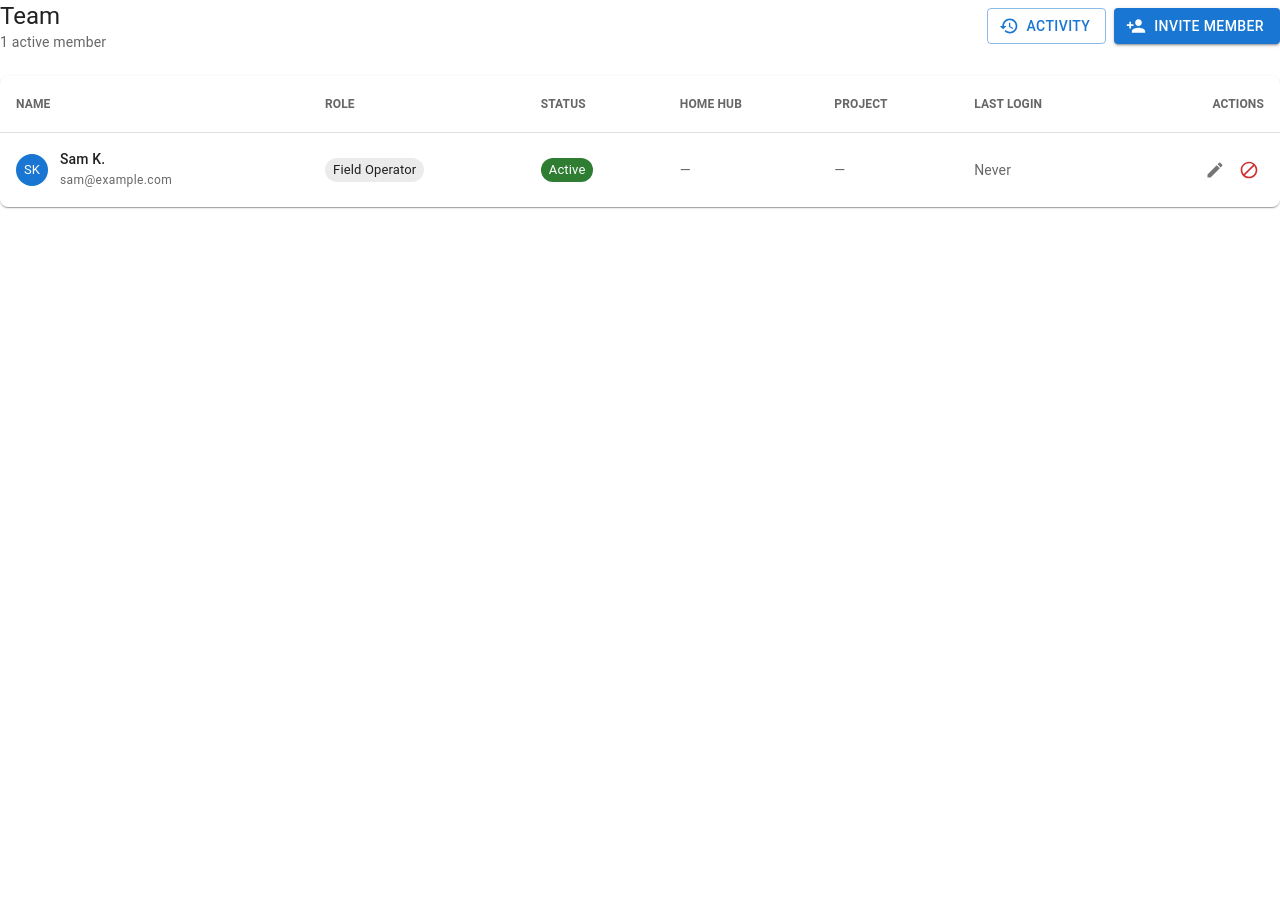
UXP-6 (6c): Invite team member on EntityFormDialog › the invite route's field errors land on their fields
Expected: the text "Sam K." is shown, [60, 151, 105, 167]
Click the button "Invite Member". click: x=1197, y=26
box: [1114, 8, 1279, 44]
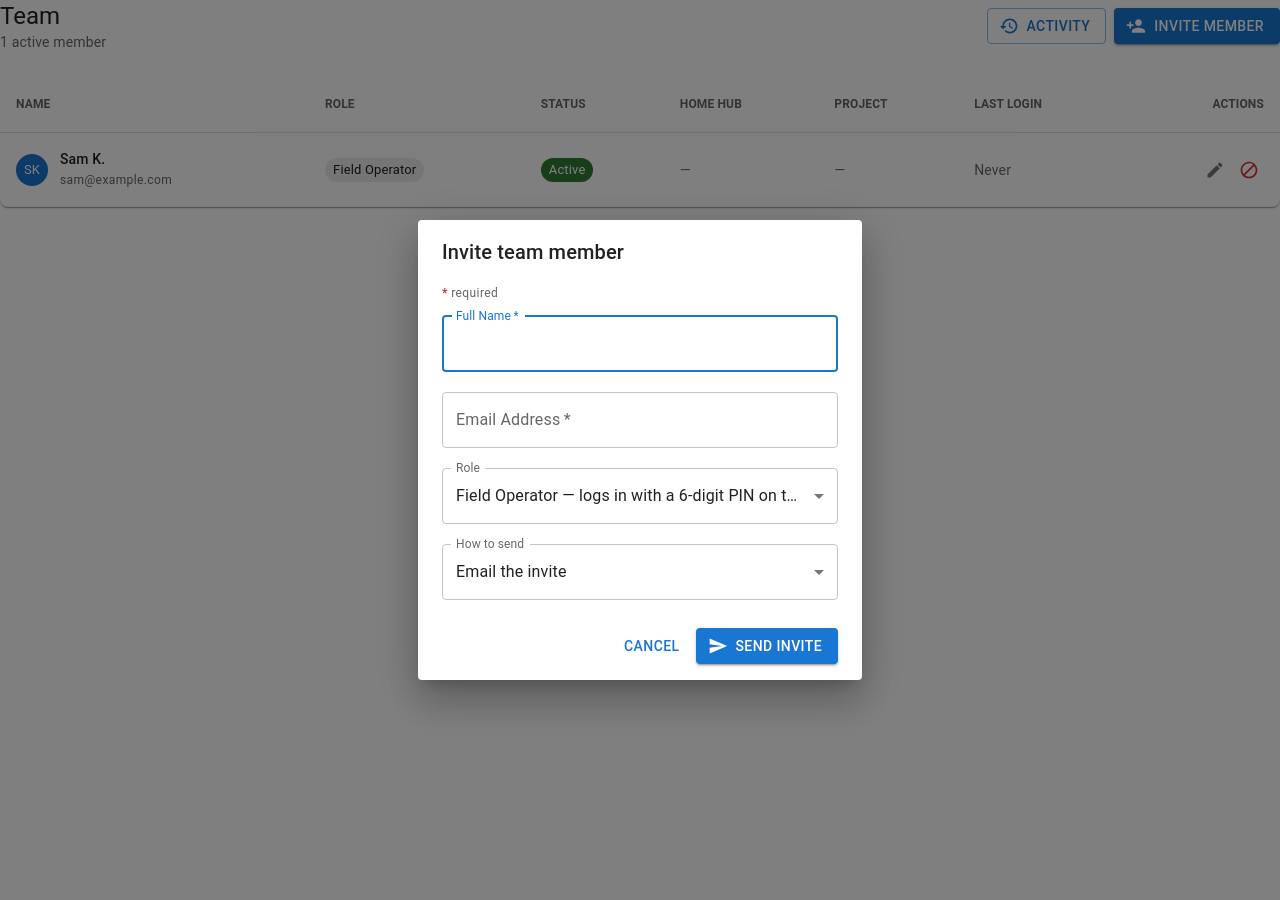
Type "Dana R." into the field labelled "Full Name *". click: x=640, y=344
box: [442, 316, 838, 372]
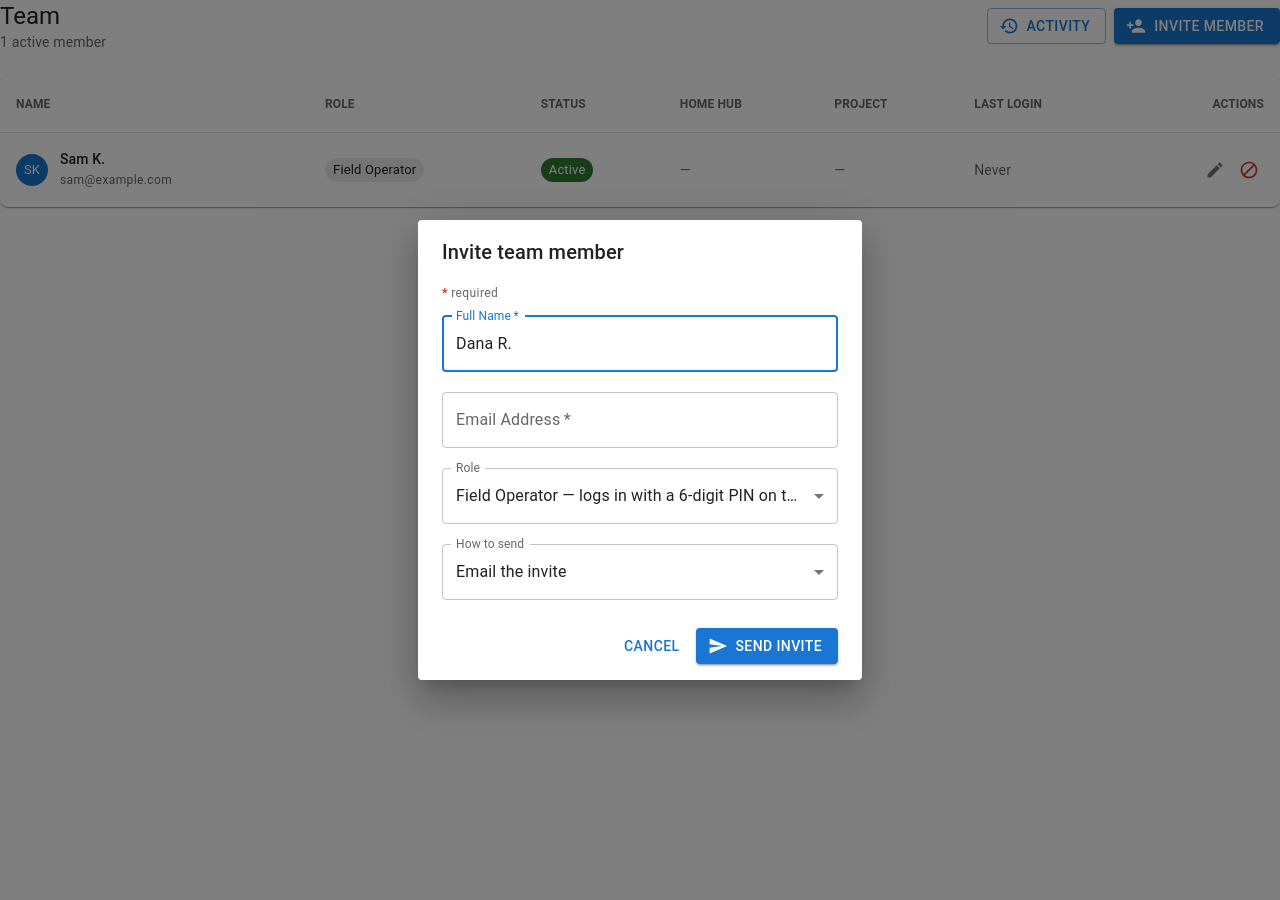
Type "not-an-email" into the field labelled "Email Address *". click: x=640, y=420
box: [442, 392, 838, 448]
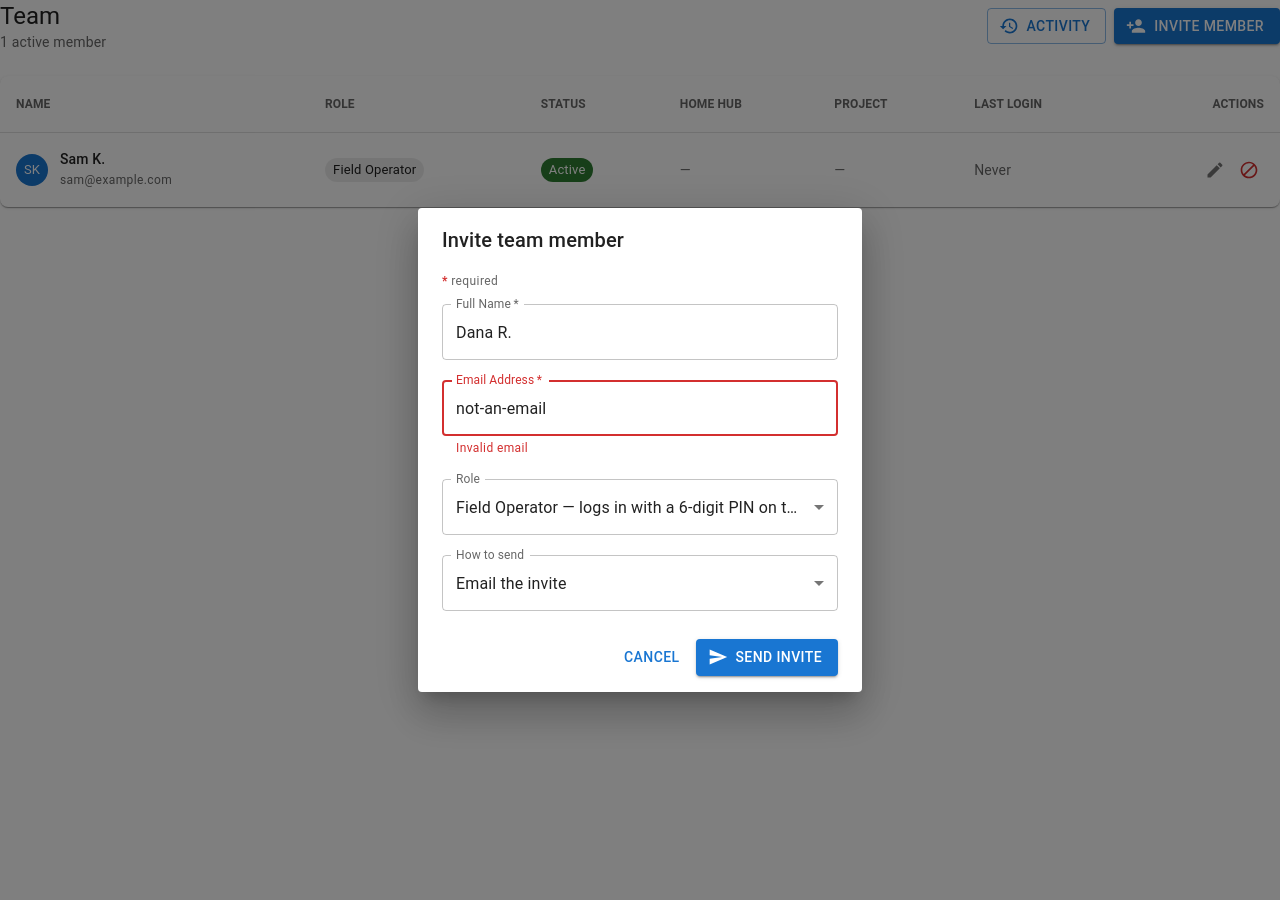
Expected: the dialog "Invite team member" is shown, [418, 208, 862, 692]
Expected: the text "Invalid email" is shown, [456, 441, 528, 455]
